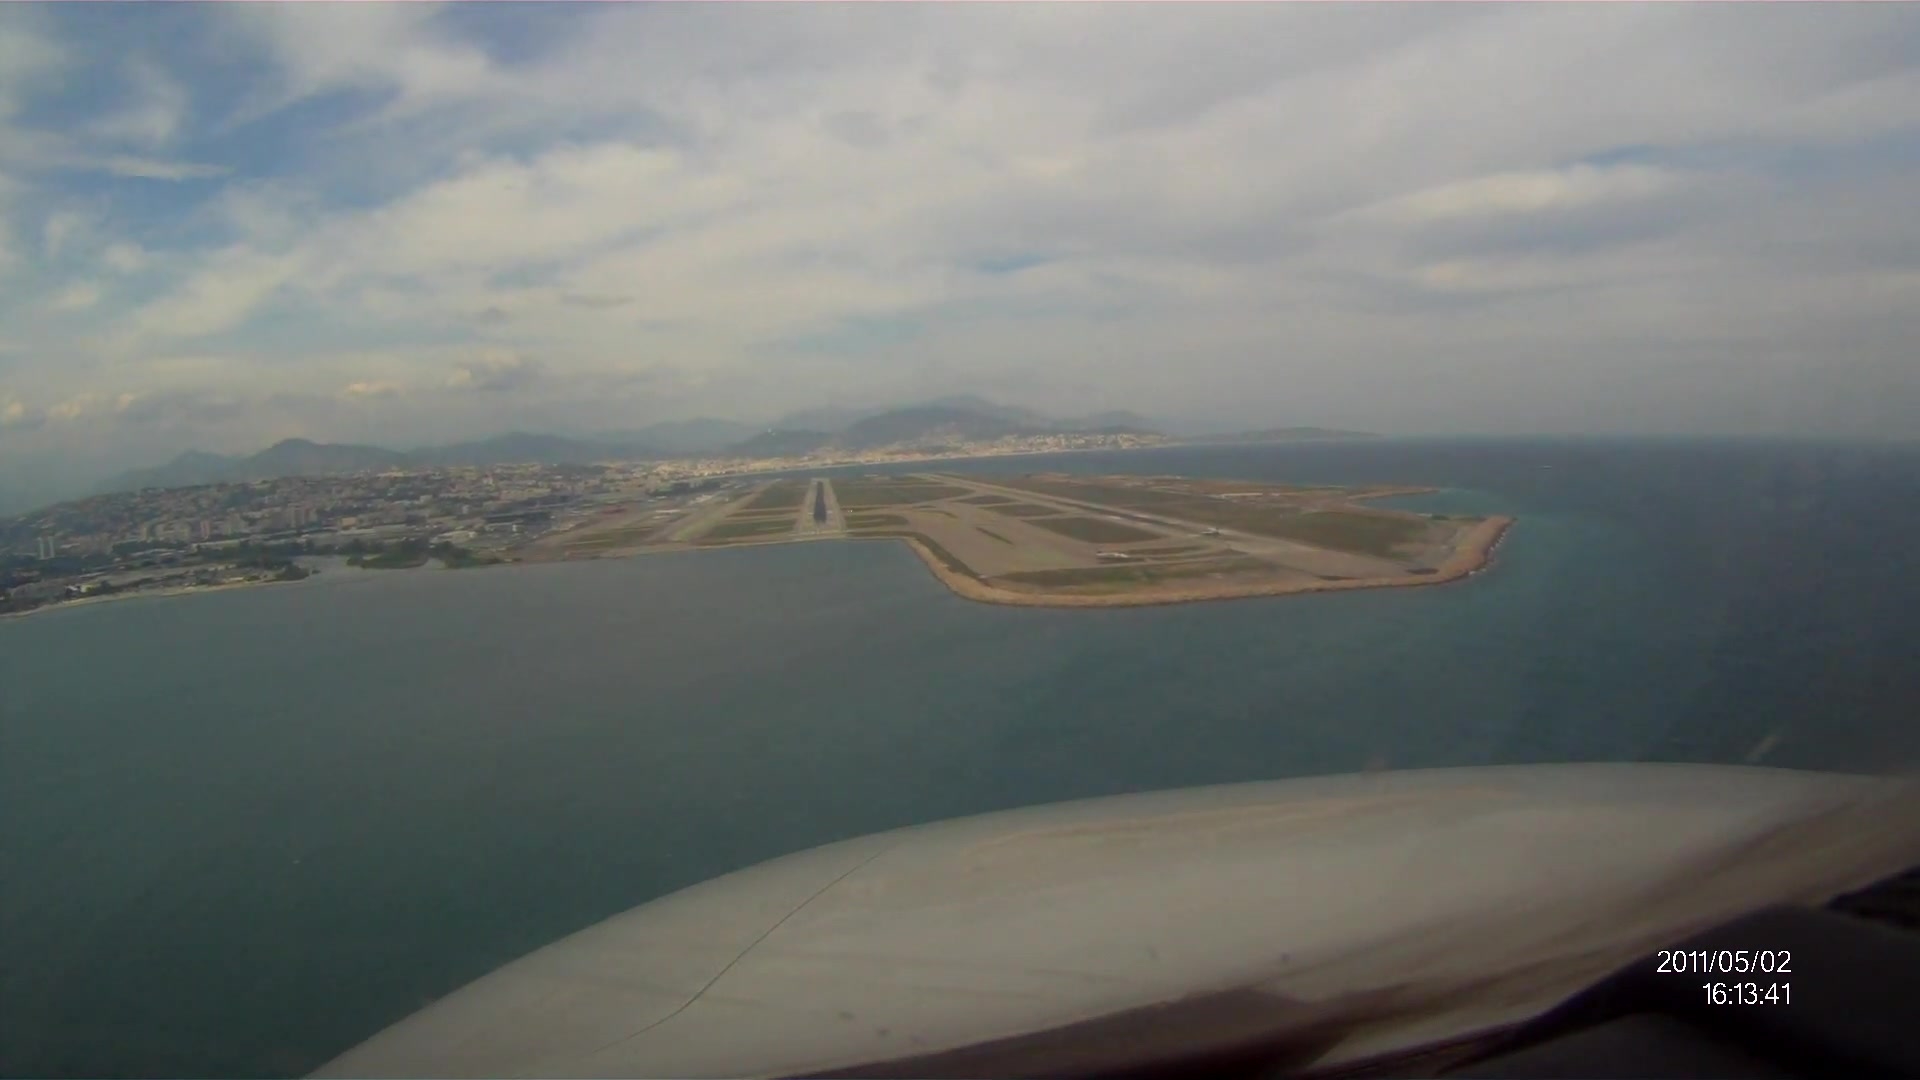runway: (791, 479, 847, 541)
